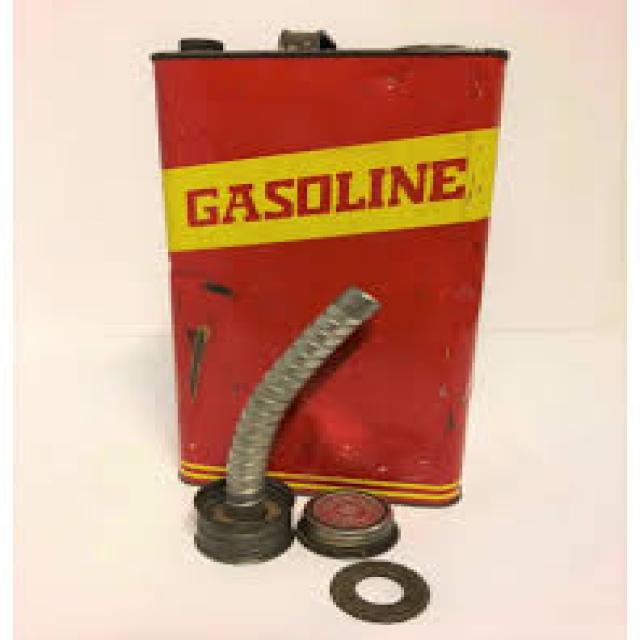gasolin: (153, 31, 507, 564)
